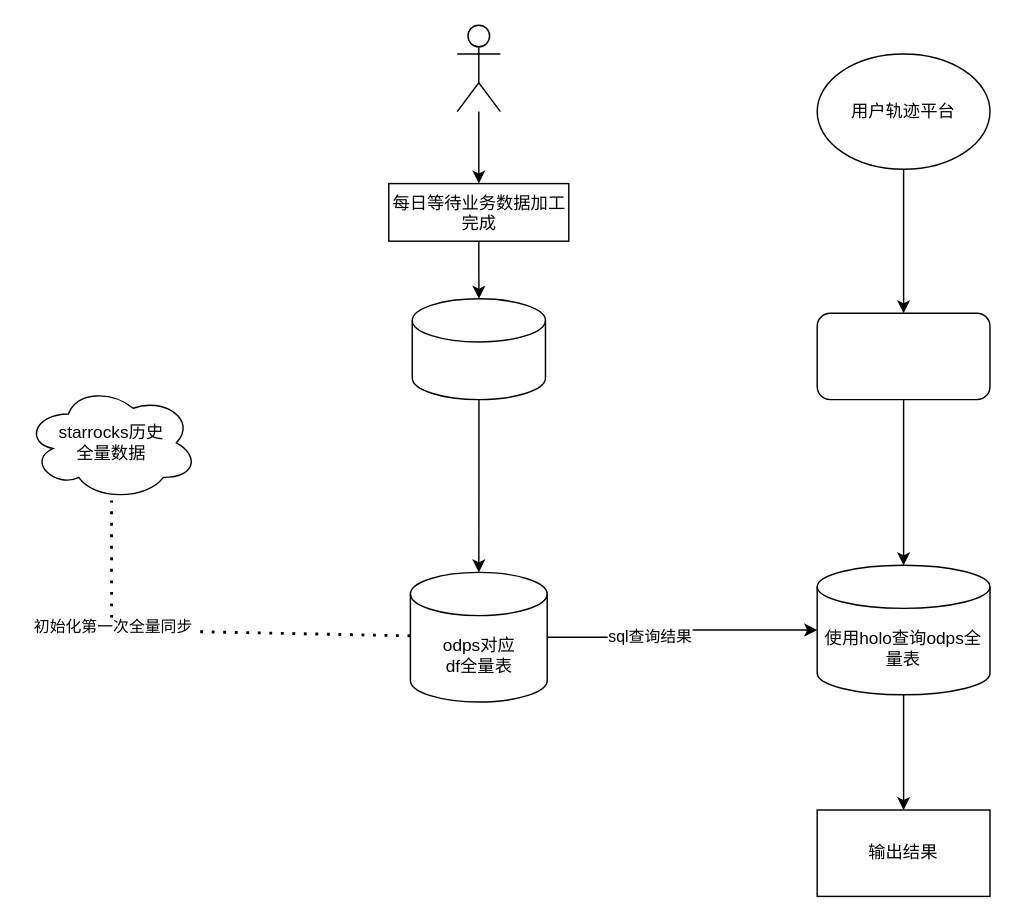
This 1015x922 diagram has some shape labels left out. Here are the shapes that lost their labels. From the top down, the centre of each, then its label:
the point at 478,68: 数仓侧
the point at 478,348: 加工出增量数据
the point at 903,356: 组装查询sql， 每次查询最新分区
